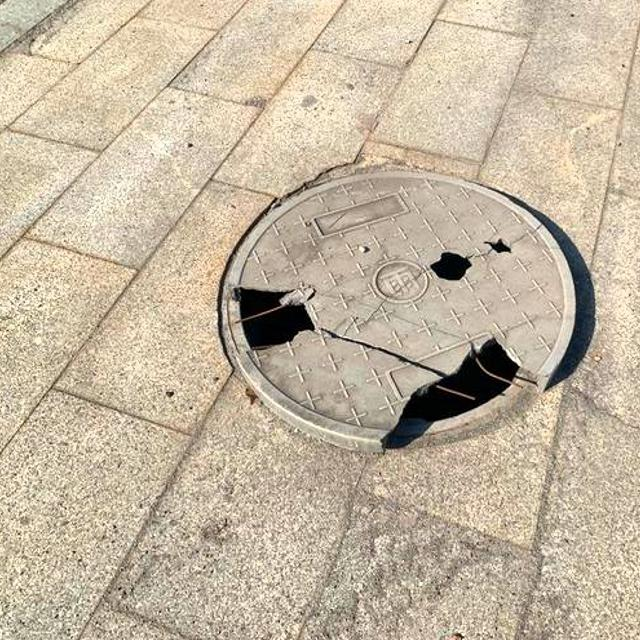broke: (203, 142, 609, 459)
